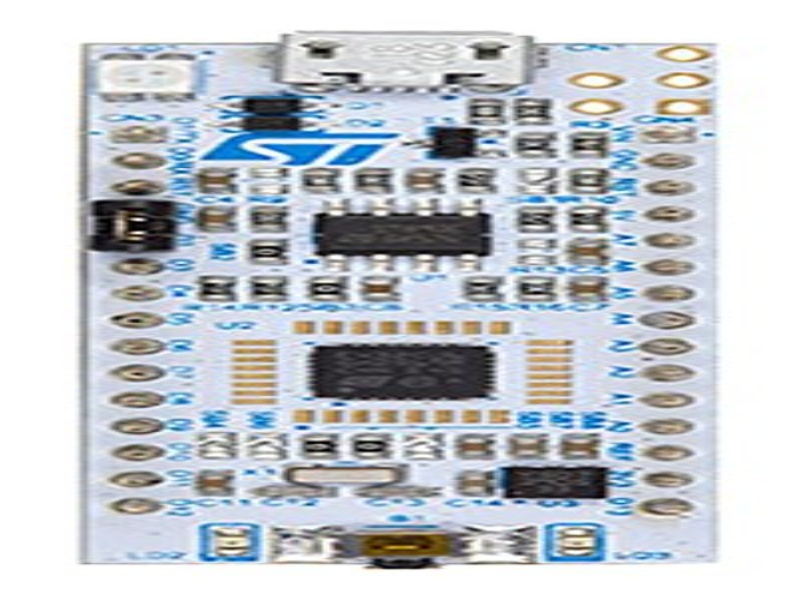stmnucleo: (68, 40, 750, 544)
